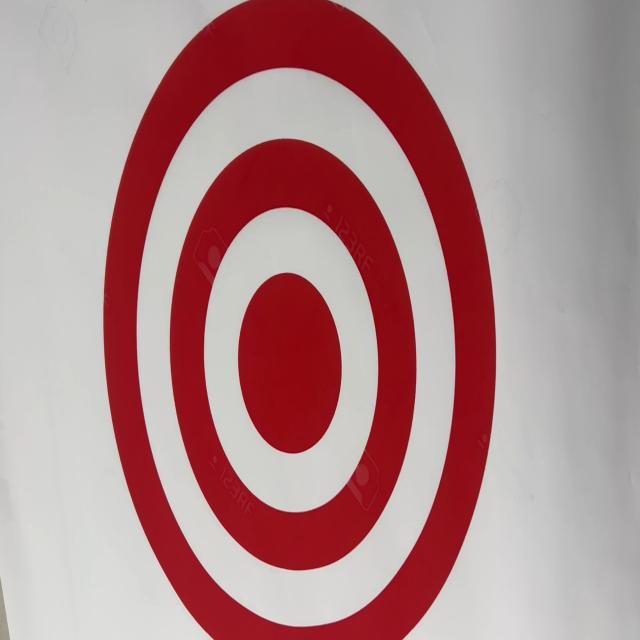target_red: (92, 5, 516, 640)
